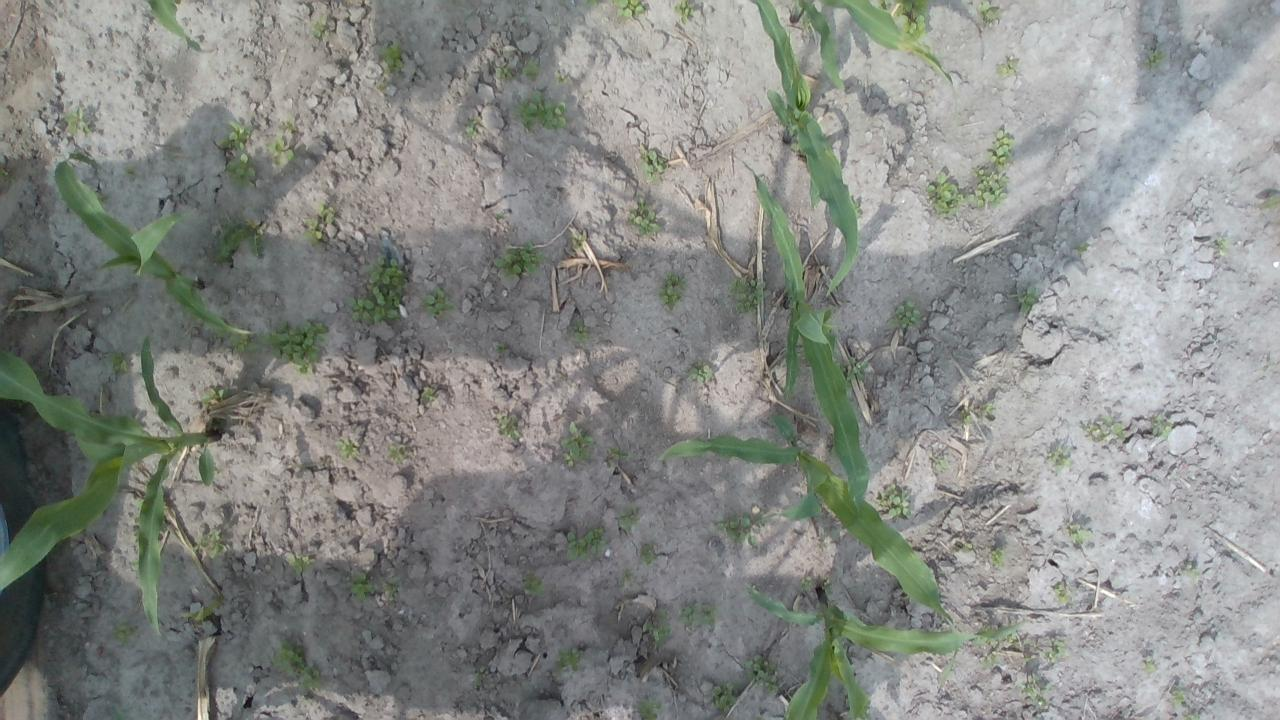Maize: (656, 410, 958, 690), (0, 334, 220, 640), (741, 161, 872, 537), (744, 579, 1026, 720), (53, 152, 256, 342), (749, 0, 860, 301), (786, 0, 966, 127), (135, 0, 205, 54)
Weeds: (341, 256, 407, 322), (262, 318, 330, 378), (210, 214, 264, 264), (516, 90, 569, 132), (492, 240, 544, 281), (966, 166, 1010, 209), (264, 116, 298, 168), (926, 171, 964, 217), (560, 420, 594, 468), (718, 513, 767, 545), (892, 0, 930, 41), (728, 276, 767, 314), (304, 200, 336, 246), (744, 654, 782, 692), (640, 608, 674, 650), (627, 198, 661, 237), (654, 272, 688, 310), (566, 528, 606, 560), (984, 129, 1016, 168), (878, 483, 912, 519), (216, 118, 254, 150), (636, 144, 668, 182), (225, 152, 257, 188), (423, 286, 454, 320), (274, 639, 304, 673), (1086, 416, 1124, 442), (1020, 673, 1049, 706), (193, 530, 224, 560), (377, 43, 404, 77), (888, 300, 921, 327), (62, 108, 91, 137), (348, 571, 376, 601), (678, 604, 718, 625), (710, 681, 737, 712), (633, 696, 664, 720), (608, 0, 644, 20), (1018, 287, 1042, 315), (1050, 448, 1074, 476), (557, 646, 582, 672), (844, 355, 868, 382), (1150, 415, 1174, 440), (671, 0, 695, 25), (286, 552, 313, 574), (496, 414, 519, 439), (303, 666, 325, 692), (381, 576, 401, 604), (1068, 522, 1094, 543), (110, 622, 134, 644), (108, 353, 130, 377), (334, 438, 360, 458), (572, 318, 592, 344), (618, 508, 642, 528), (1042, 639, 1066, 659), (183, 604, 209, 622), (522, 575, 544, 596), (689, 363, 712, 383), (979, 0, 999, 23), (230, 340, 262, 354), (997, 59, 1021, 77), (201, 387, 226, 402), (521, 62, 541, 80), (1053, 582, 1070, 603), (641, 544, 657, 566), (1144, 50, 1166, 66), (799, 12, 815, 33), (311, 14, 326, 36), (1215, 236, 1231, 256), (990, 547, 1006, 567), (158, 504, 169, 532), (848, 196, 862, 218), (389, 445, 406, 463), (978, 652, 997, 668), (1262, 194, 1280, 210), (496, 65, 514, 80), (606, 446, 626, 459), (419, 385, 434, 401), (797, 575, 812, 591), (464, 119, 478, 136), (1170, 688, 1184, 704), (374, 77, 389, 91), (932, 458, 946, 472), (1143, 657, 1156, 672), (864, 697, 872, 720), (622, 568, 634, 583), (822, 576, 832, 593), (1075, 240, 1088, 253), (112, 708, 126, 720), (960, 410, 972, 424), (556, 72, 568, 86), (580, 0, 598, 9), (493, 342, 505, 354), (981, 402, 994, 413), (122, 168, 136, 178), (964, 541, 974, 553), (981, 638, 994, 647), (494, 209, 504, 220), (1190, 567, 1200, 578), (1184, 714, 1202, 720), (131, 559, 139, 572), (134, 498, 144, 508), (1008, 632, 1018, 642), (474, 672, 480, 688), (1023, 656, 1032, 664), (981, 626, 993, 632)
